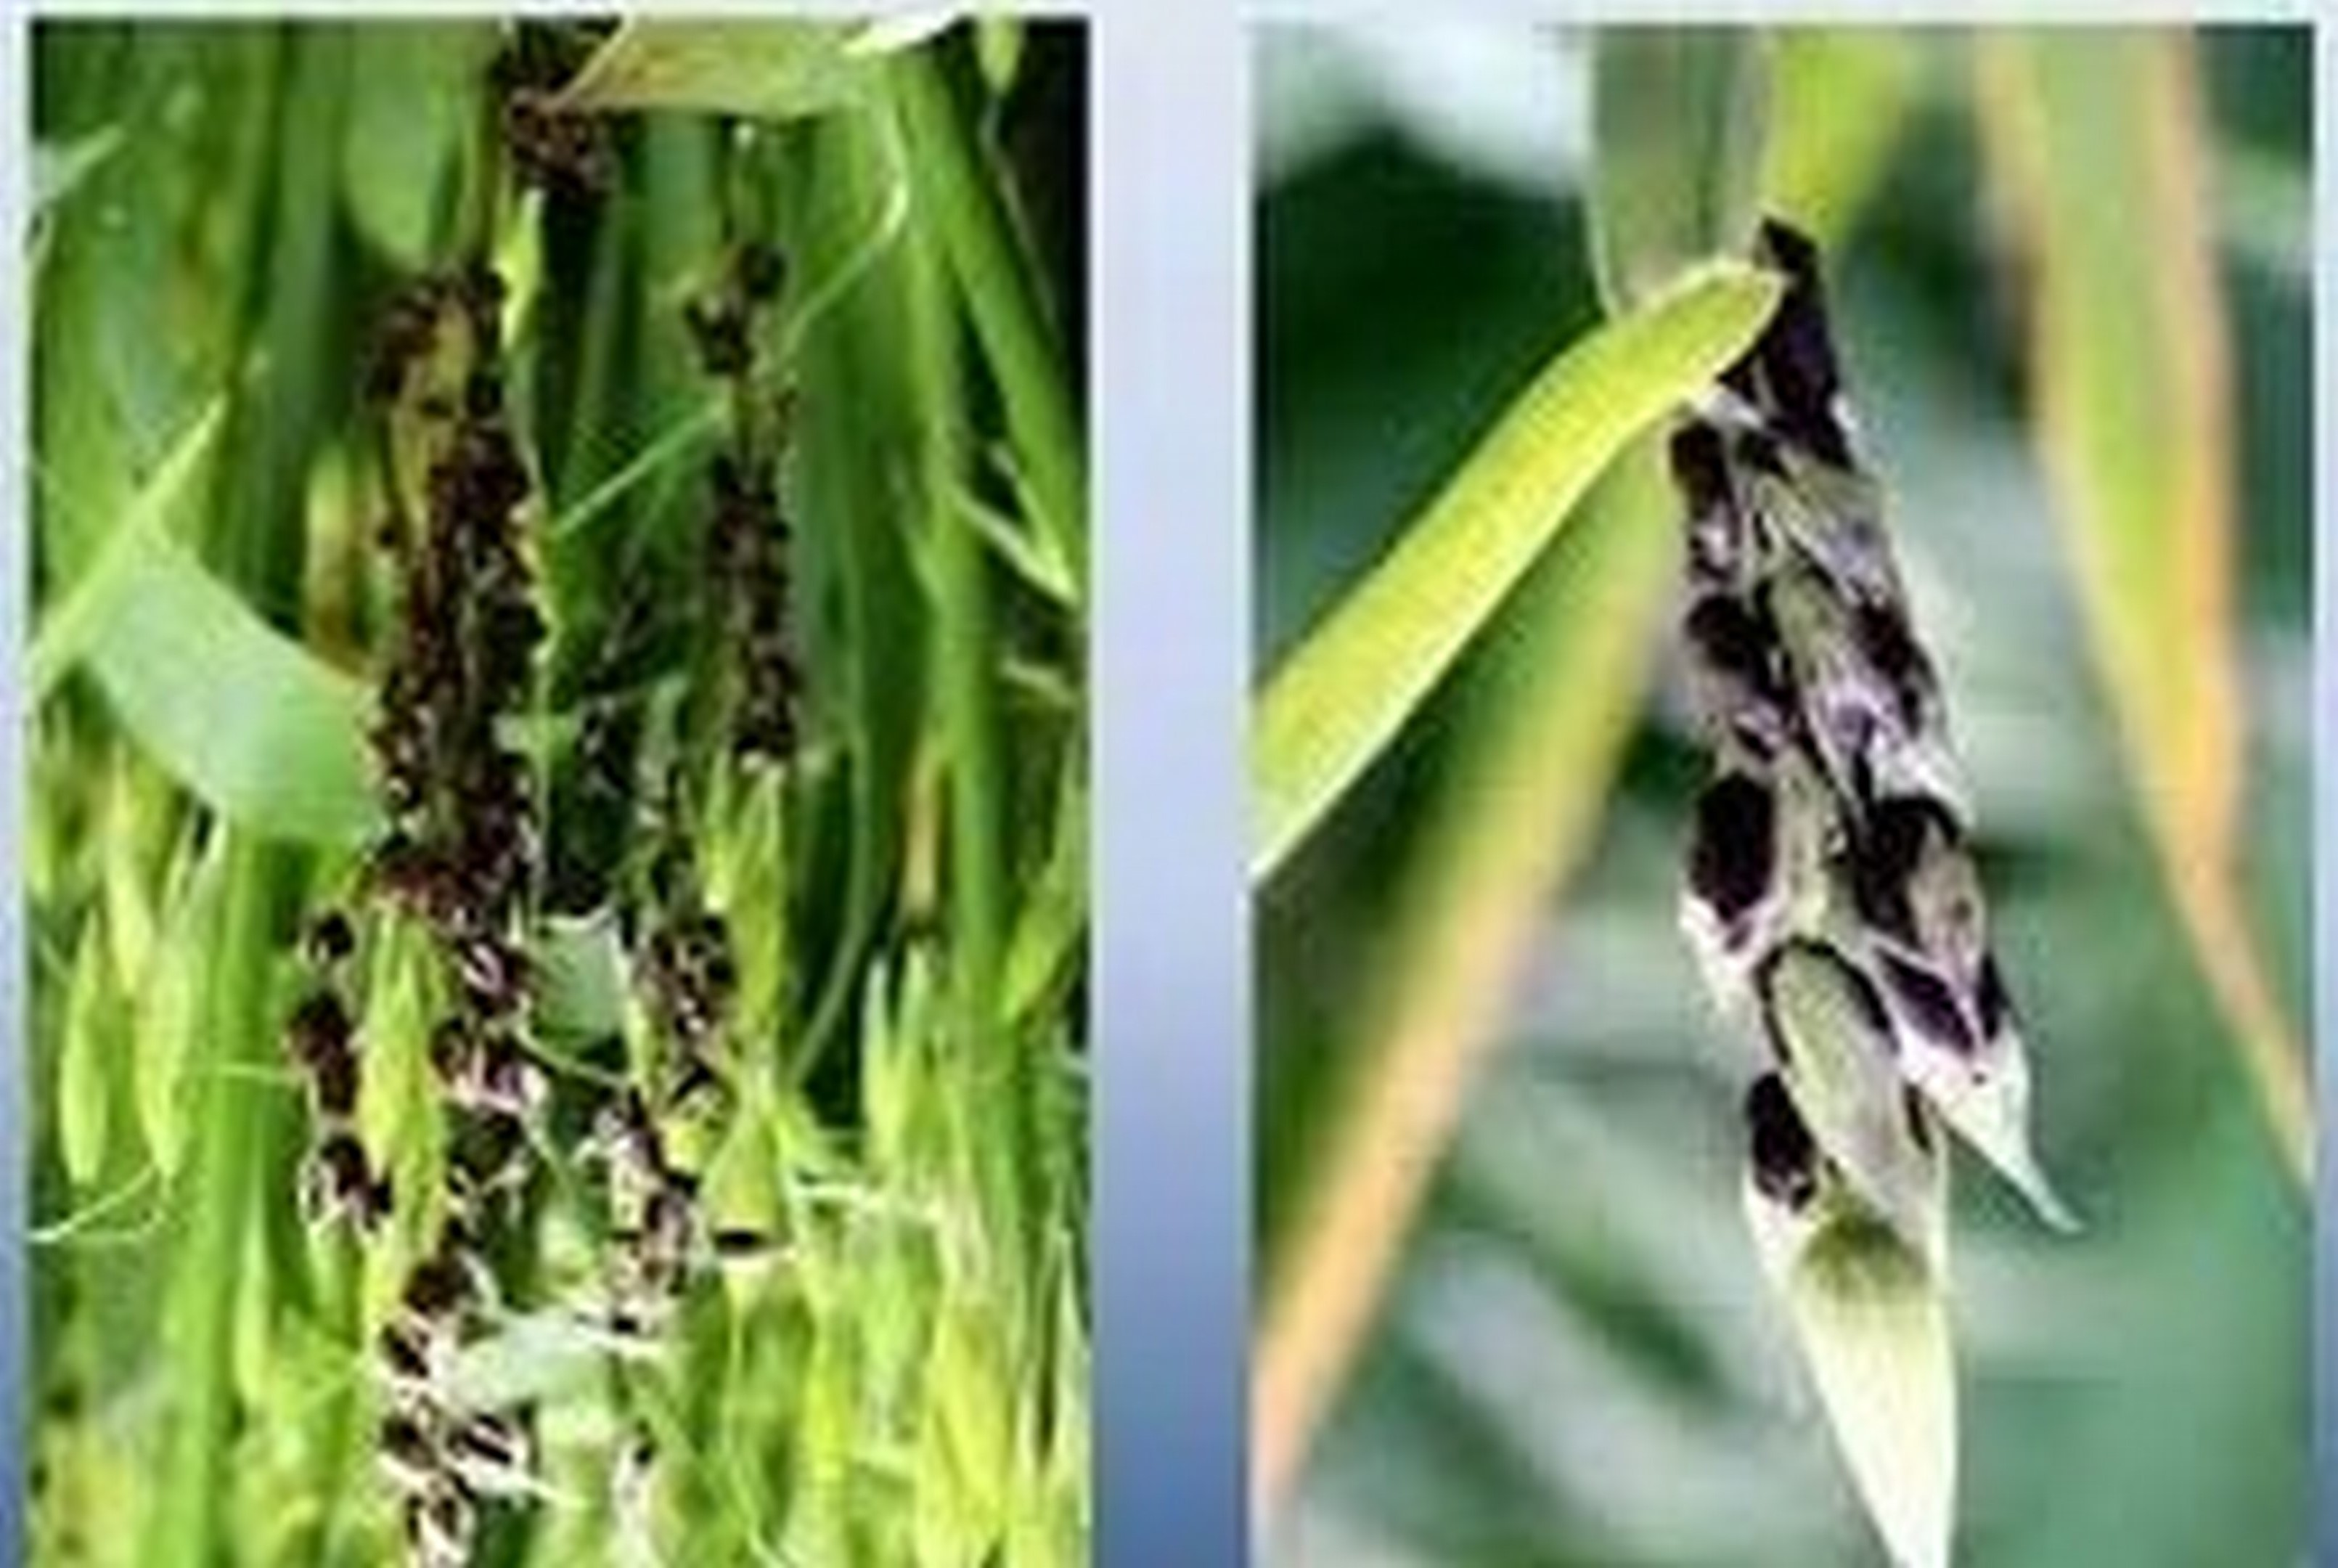Wheat Loose Smut: (268, 297, 842, 1489)
